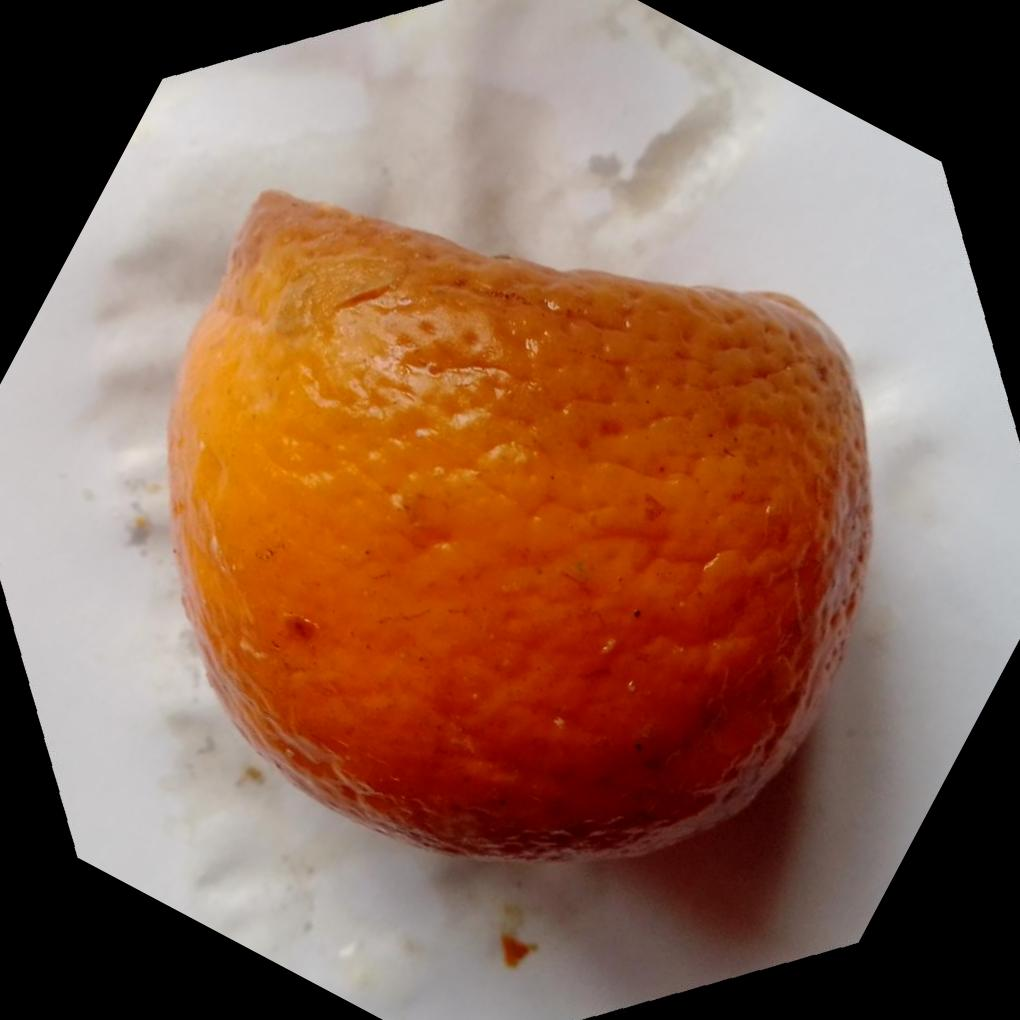FreshOrange: (162, 191, 874, 866)
